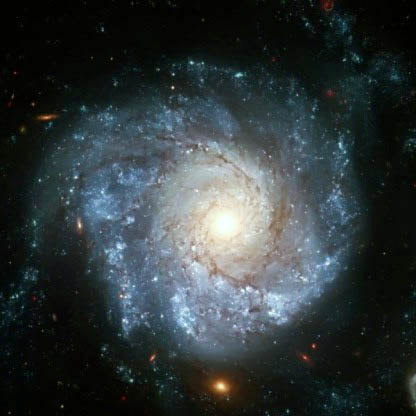NGC 1309: (25, 41, 388, 407)
